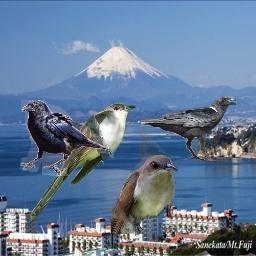Crow: (20, 100, 106, 176), (139, 95, 237, 161)
Cuckoo: (28, 102, 136, 223), (110, 155, 178, 234)
